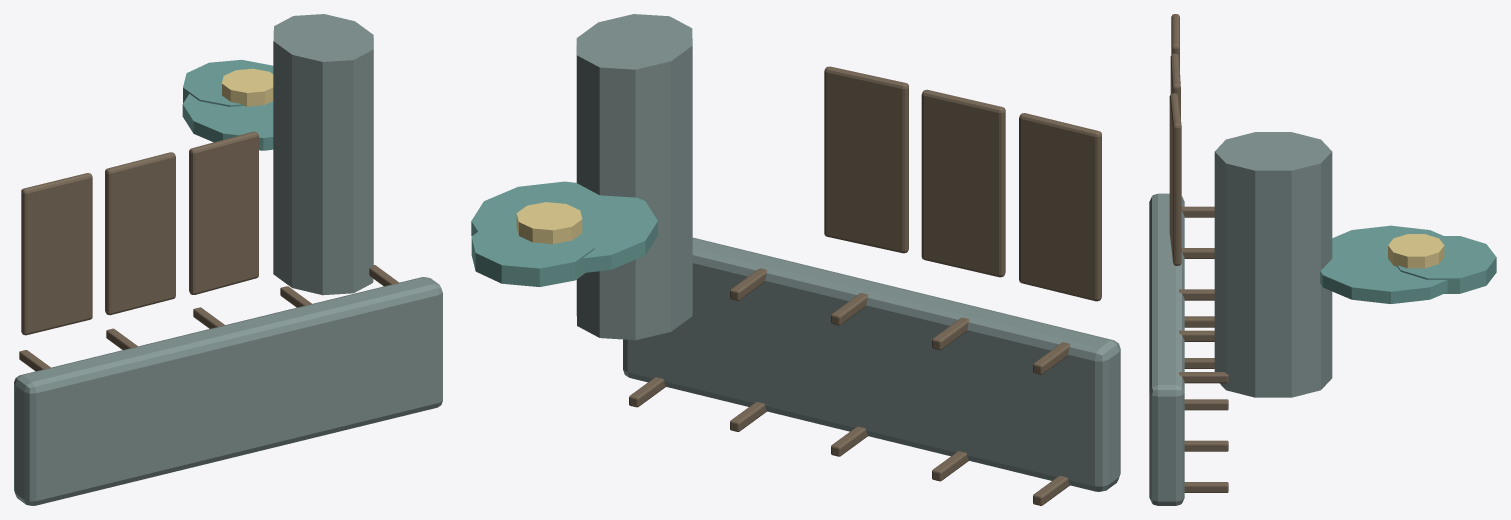
File: region-mist-landmark.glb
3 renders of one model, left to right at view 1: azimuth 30°, elevation 25°; view 2: azimuth 150°, elevation 25°; view 3: azimuth 270°, elevation 25°, orthographic. The views are drawn at different scales.
Parts seen in each view (by area): view 1: raised stone causeway, tapered harbor beacon, broken dock deck, broken dock deck.001, broken dock deck.002, beacon gallery, beacon copper roof, warm beacon lantern; view 2: raised stone causeway, tapered harbor beacon, broken dock deck.002, broken dock deck.001, broken dock deck, beacon gallery, beacon copper roof, warm beacon lantern; view 3: tapered harbor beacon, raised stone causeway, beacon gallery, beacon copper roof, broken dock deck.002, warm beacon lantern, causeway mooring post.009, causeway mooring post.002, causeway mooring post.003, causeway mooring post.004, broken dock deck.001, causeway mooring post.008 (+2 smaller).
Boxes of the visible parts, bbox=[...] form: raised stone causeway: bbox=[14, 277, 442, 505]; tapered harbor beacon: bbox=[273, 14, 373, 295]; broken dock deck: bbox=[21, 173, 92, 335]; broken dock deck.001: bbox=[105, 152, 175, 315]; broken dock deck.002: bbox=[189, 131, 258, 294]; beacon gallery: bbox=[182, 94, 273, 150]; beacon copper roof: bbox=[183, 59, 273, 106]; warm beacon lantern: bbox=[222, 68, 273, 106]; raised stone causeway: bbox=[623, 237, 1120, 491]; tapered harbor beacon: bbox=[576, 14, 692, 340]; broken dock deck.002: bbox=[824, 66, 908, 253]; broken dock deck.001: bbox=[921, 89, 1005, 277]; broken dock deck: bbox=[1019, 113, 1101, 301]; beacon gallery: bbox=[471, 181, 657, 272]; beacon copper roof: bbox=[471, 217, 594, 286]; warm beacon lantern: bbox=[516, 202, 582, 244]; tapered harbor beacon: bbox=[1214, 132, 1332, 397]; raised stone causeway: bbox=[1149, 193, 1184, 505]; beacon gallery: bbox=[1320, 225, 1447, 303]; beacon copper roof: bbox=[1397, 236, 1496, 293]; broken dock deck.002: bbox=[1169, 93, 1181, 265]; warm beacon lantern: bbox=[1388, 234, 1444, 268]; causeway mooring post.009: bbox=[1179, 372, 1228, 383]; causeway mooring post.002: bbox=[1184, 399, 1228, 410]; causeway mooring post.003: bbox=[1184, 440, 1228, 451]; causeway mooring post.004: bbox=[1184, 482, 1228, 492]; broken dock deck.001: bbox=[1170, 53, 1180, 118]; causeway mooring post.008: bbox=[1179, 330, 1214, 341].
Size of the model in its own units: 12.3 by 9.3 by 8.87.
